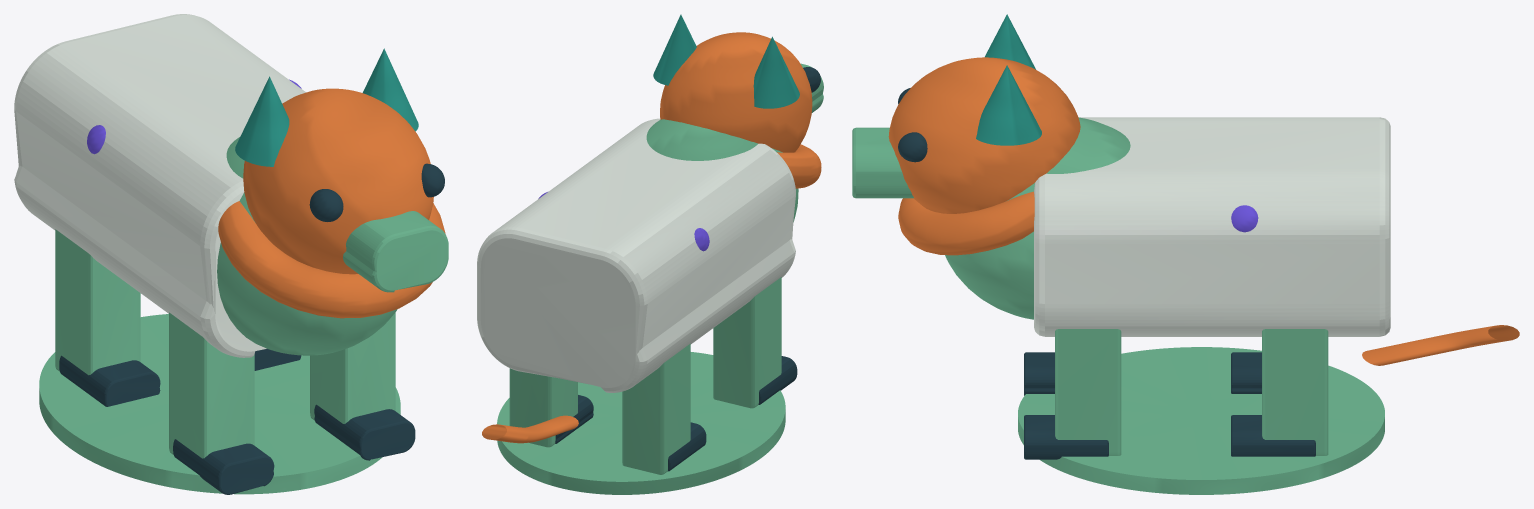
Rendered from 0163_恐龙图鉴_肿头龙.glb.
3 views of the same model, side by side, from view 1: azimuth 30°, elevation 25°; view 2: azimuth 150°, elevation 25°; view 3: azimuth 270°, elevation 25° (orthographic). The views are drawn at different scales.
Visible parts, largest first — view 1: card_0163; view 2: card_0163; view 3: card_0163.
Boxes of the visible parts, x1,y1,x2,y2 form: card_0163: (14,14,448,494); card_0163: (477,14,823,494); card_0163: (852,14,1519,494).
Bounding box in the file's own units: 0.7332 × 1 × 1.55.
